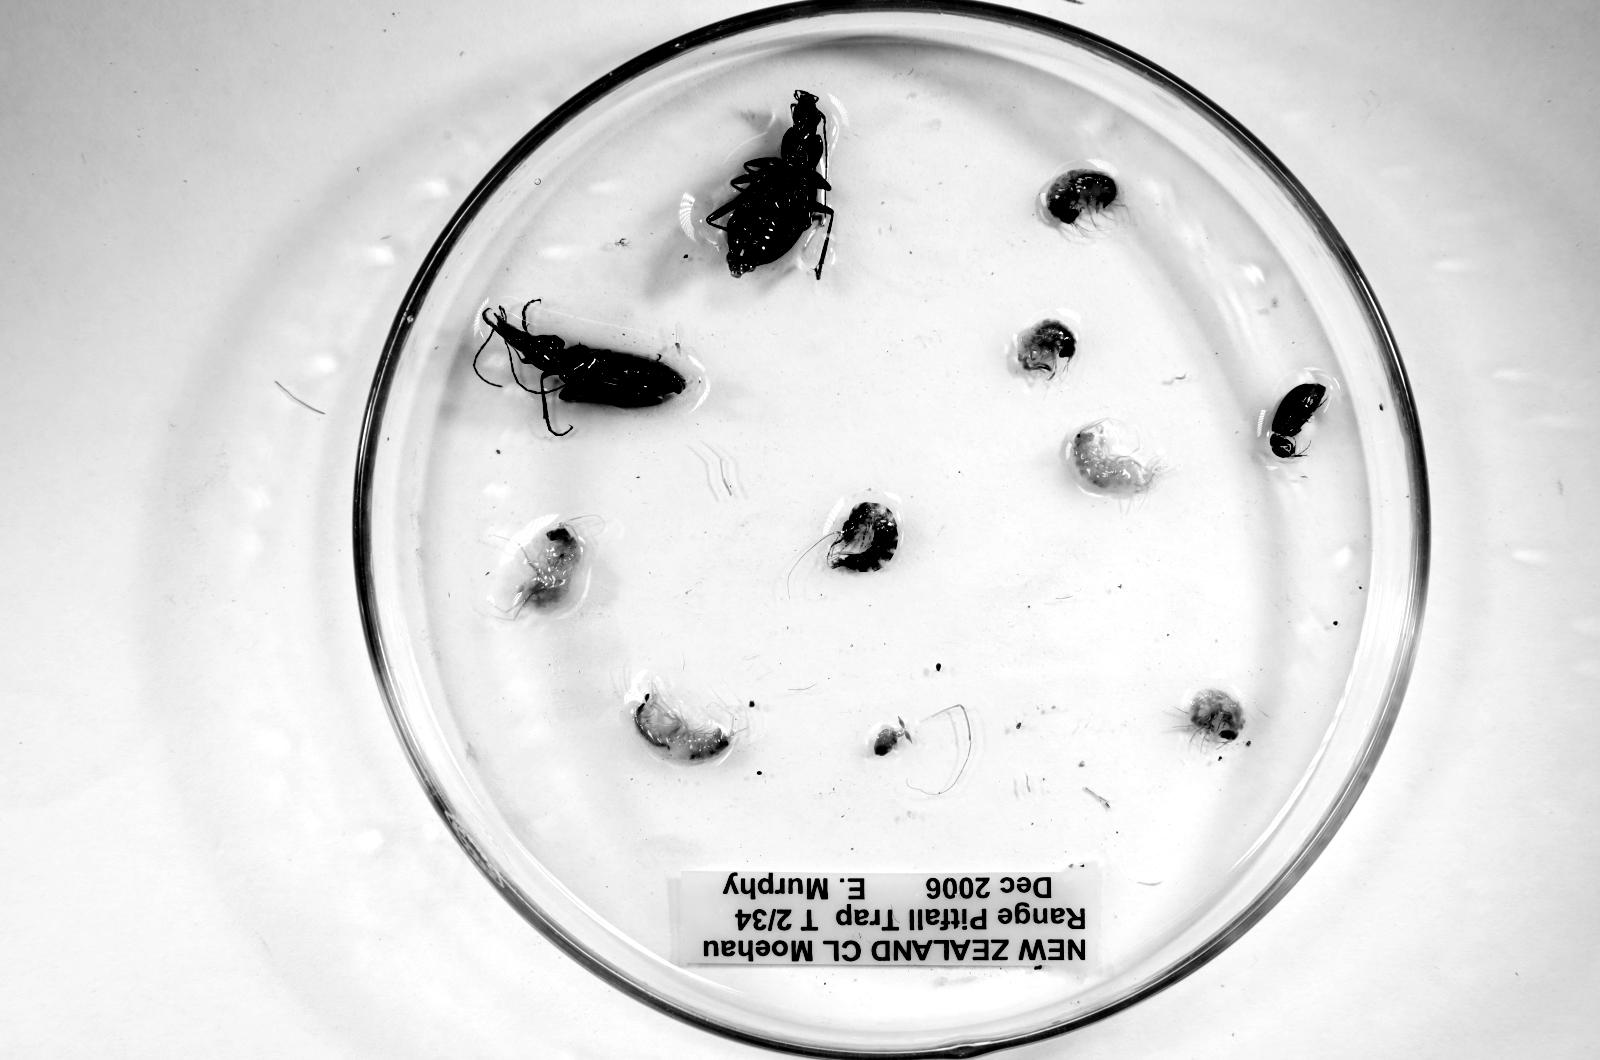amphipoda: (628, 679, 739, 764), (1067, 419, 1167, 497), (507, 521, 582, 616), (1047, 169, 1118, 225), (1017, 319, 1076, 377), (1183, 687, 1245, 742)
archaeognatha: (828, 503, 899, 571)
carabidae: (705, 90, 835, 277), (482, 309, 686, 407)
coleoptera: (1269, 383, 1327, 458)
